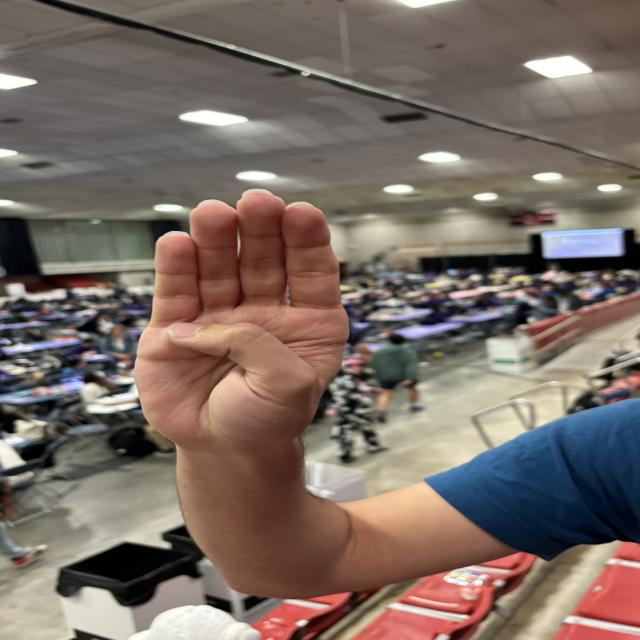B: (112, 182, 369, 456)
